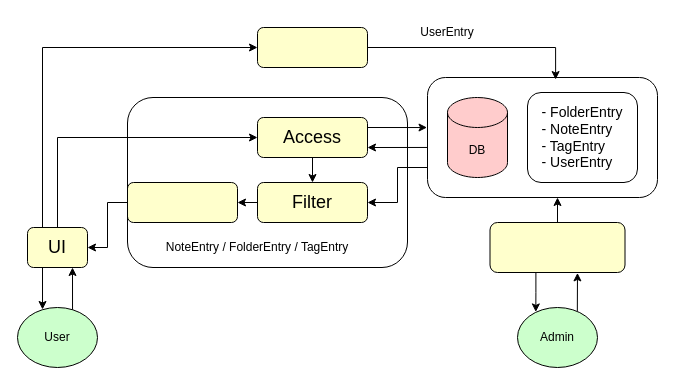
This 675x385 diagram has some shape labels left out. Here are the shapes that lost their labels. From the top down, the box of each, then its label:
(256, 26, 368, 68): Accounts
(126, 182, 238, 222): Visualize
(489, 222, 625, 272): Django Admin
